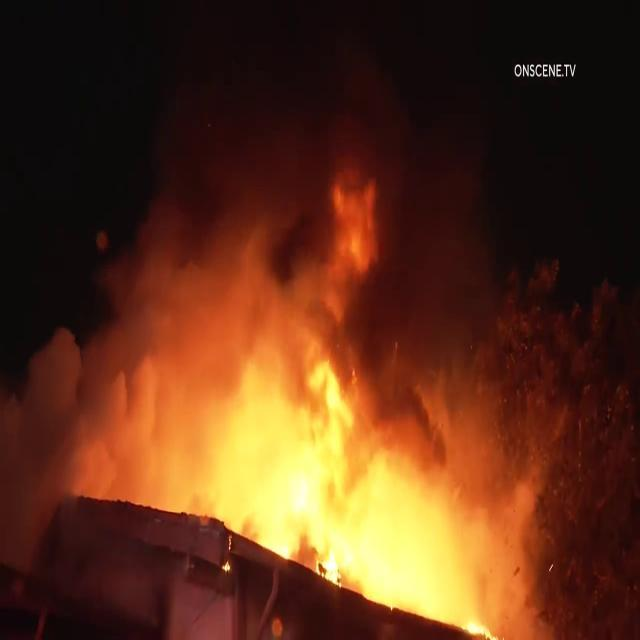Fire: (218, 448, 501, 640)
Smoke: (198, 79, 498, 433), (0, 344, 174, 454)
